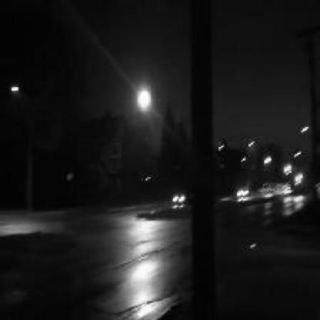other: (252, 143, 286, 205)
